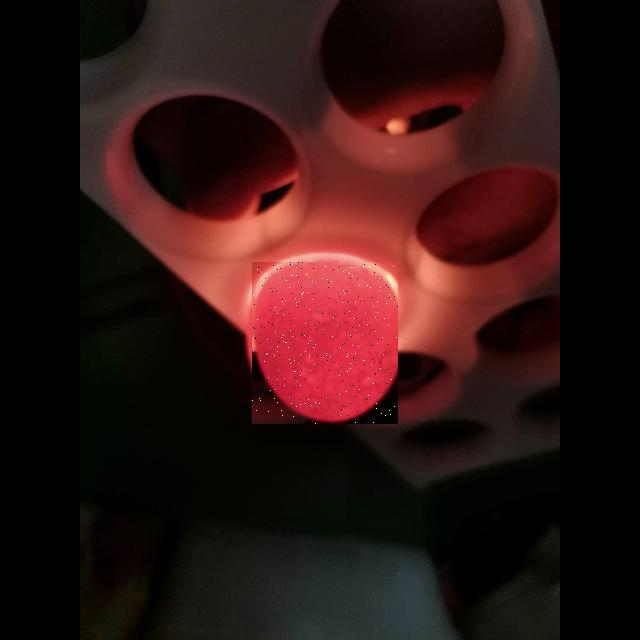Infertile: (252, 262, 398, 424)
